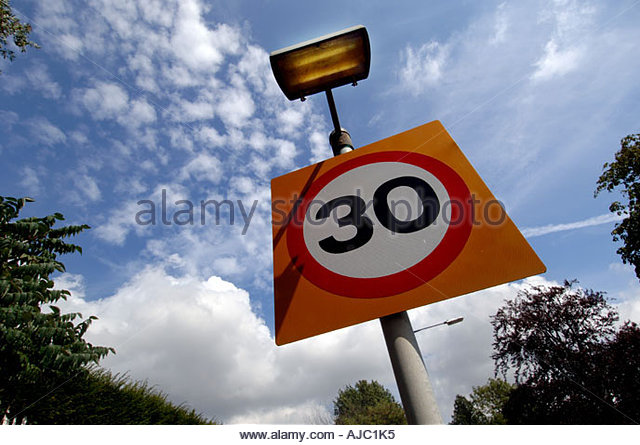Speed_limit_30km: (283, 151, 475, 297)
